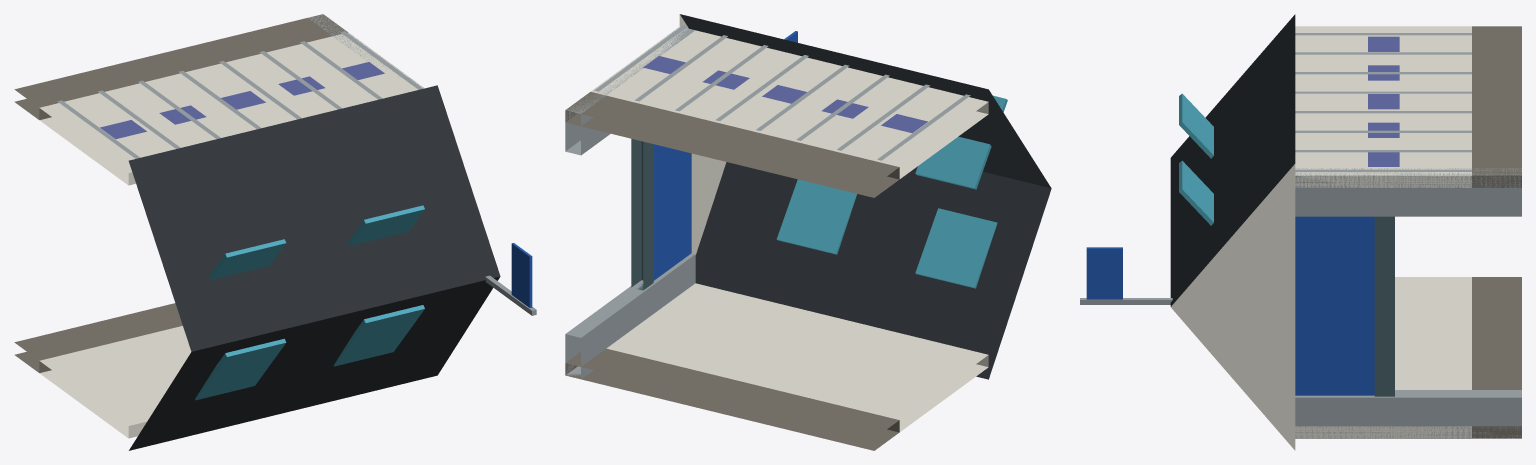
The model's file is south.glb.
3 views of the same model, side by side, from view 1: azimuth 30°, elevation 25°; view 2: azimuth 150°, elevation 25°; view 3: azimuth 270°, elevation 25° (orthographic).
Parts seen in each view (by area): view 1: depot_ship_south; view 2: depot_ship_south; view 3: depot_ship_south.
Part boxes in pixels (x1,y1,x2,y2): depot_ship_south: (14,14,536,450); depot_ship_south: (565,14,1051,450); depot_ship_south: (1080,14,1521,450).
Size of the model in its own units: 15.6 by 14 by 19.5.
